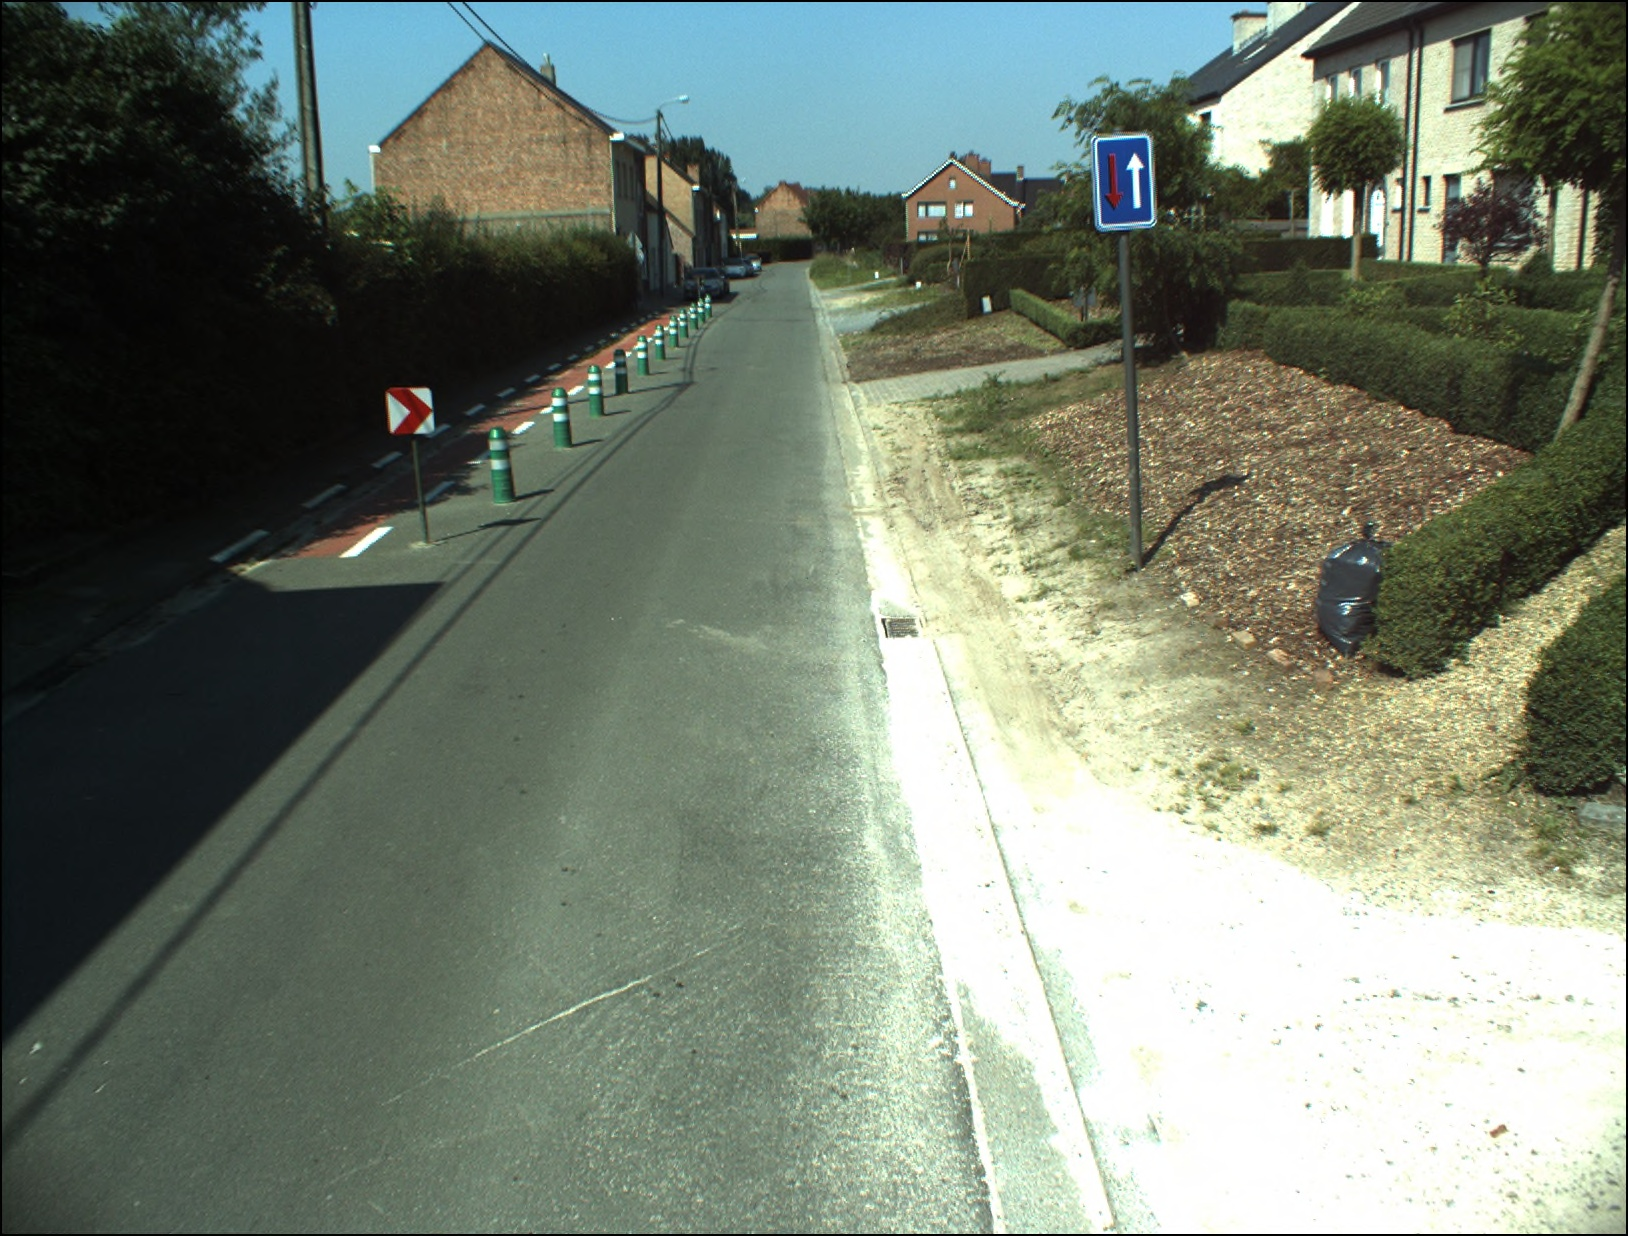roadnarrow1: (1094, 135, 1155, 226)
